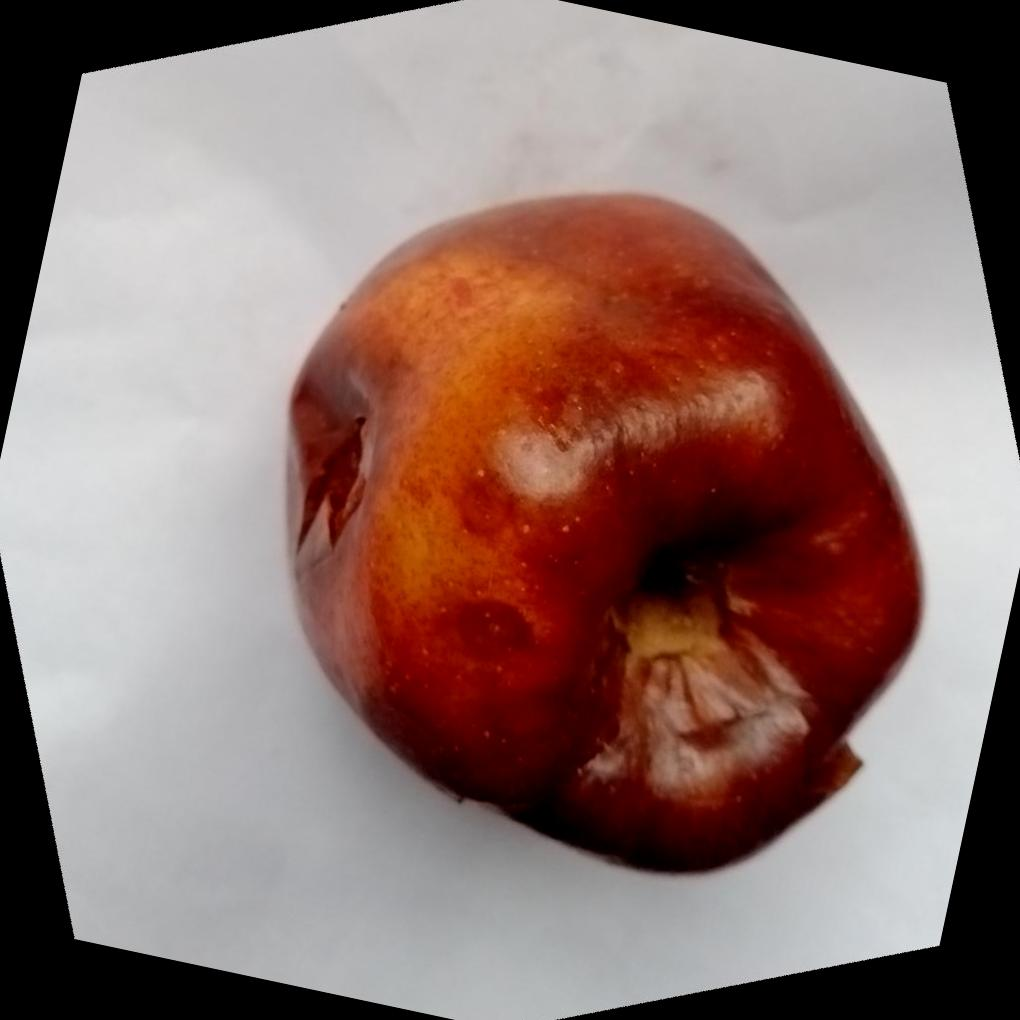FreshOrange: (284, 189, 927, 877)
